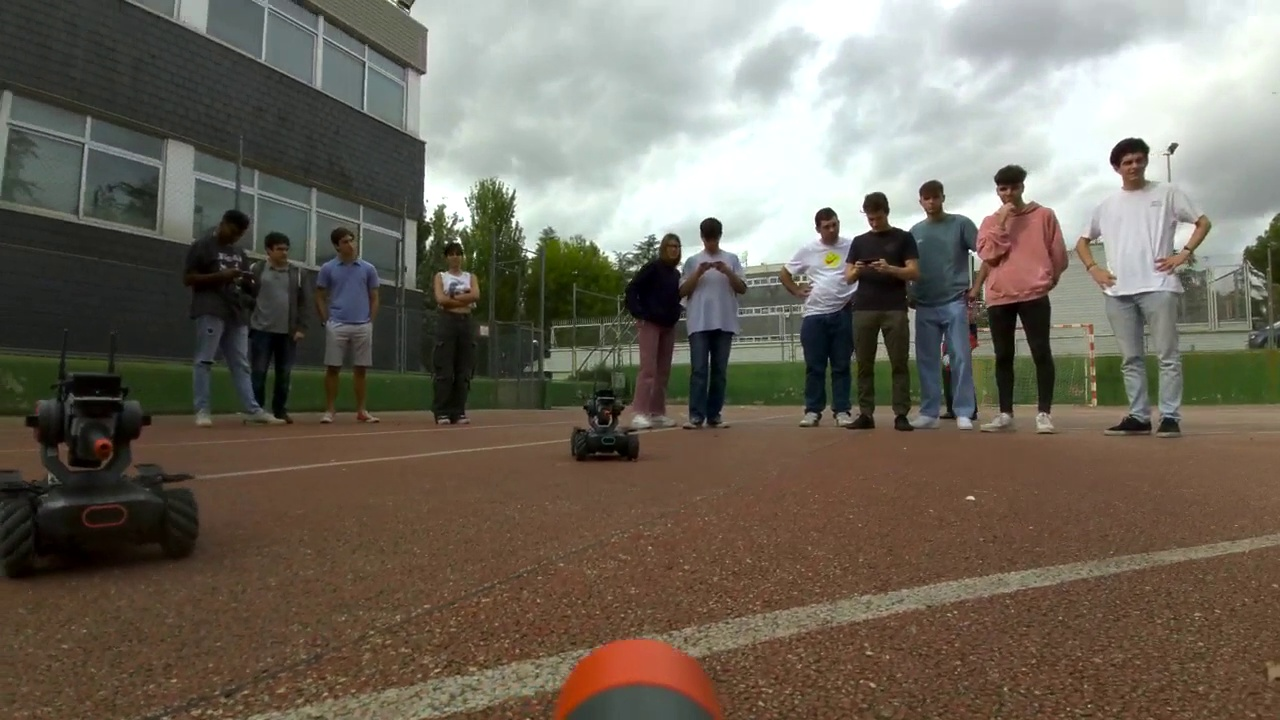robot: (5, 374, 200, 573), (571, 391, 640, 459)
